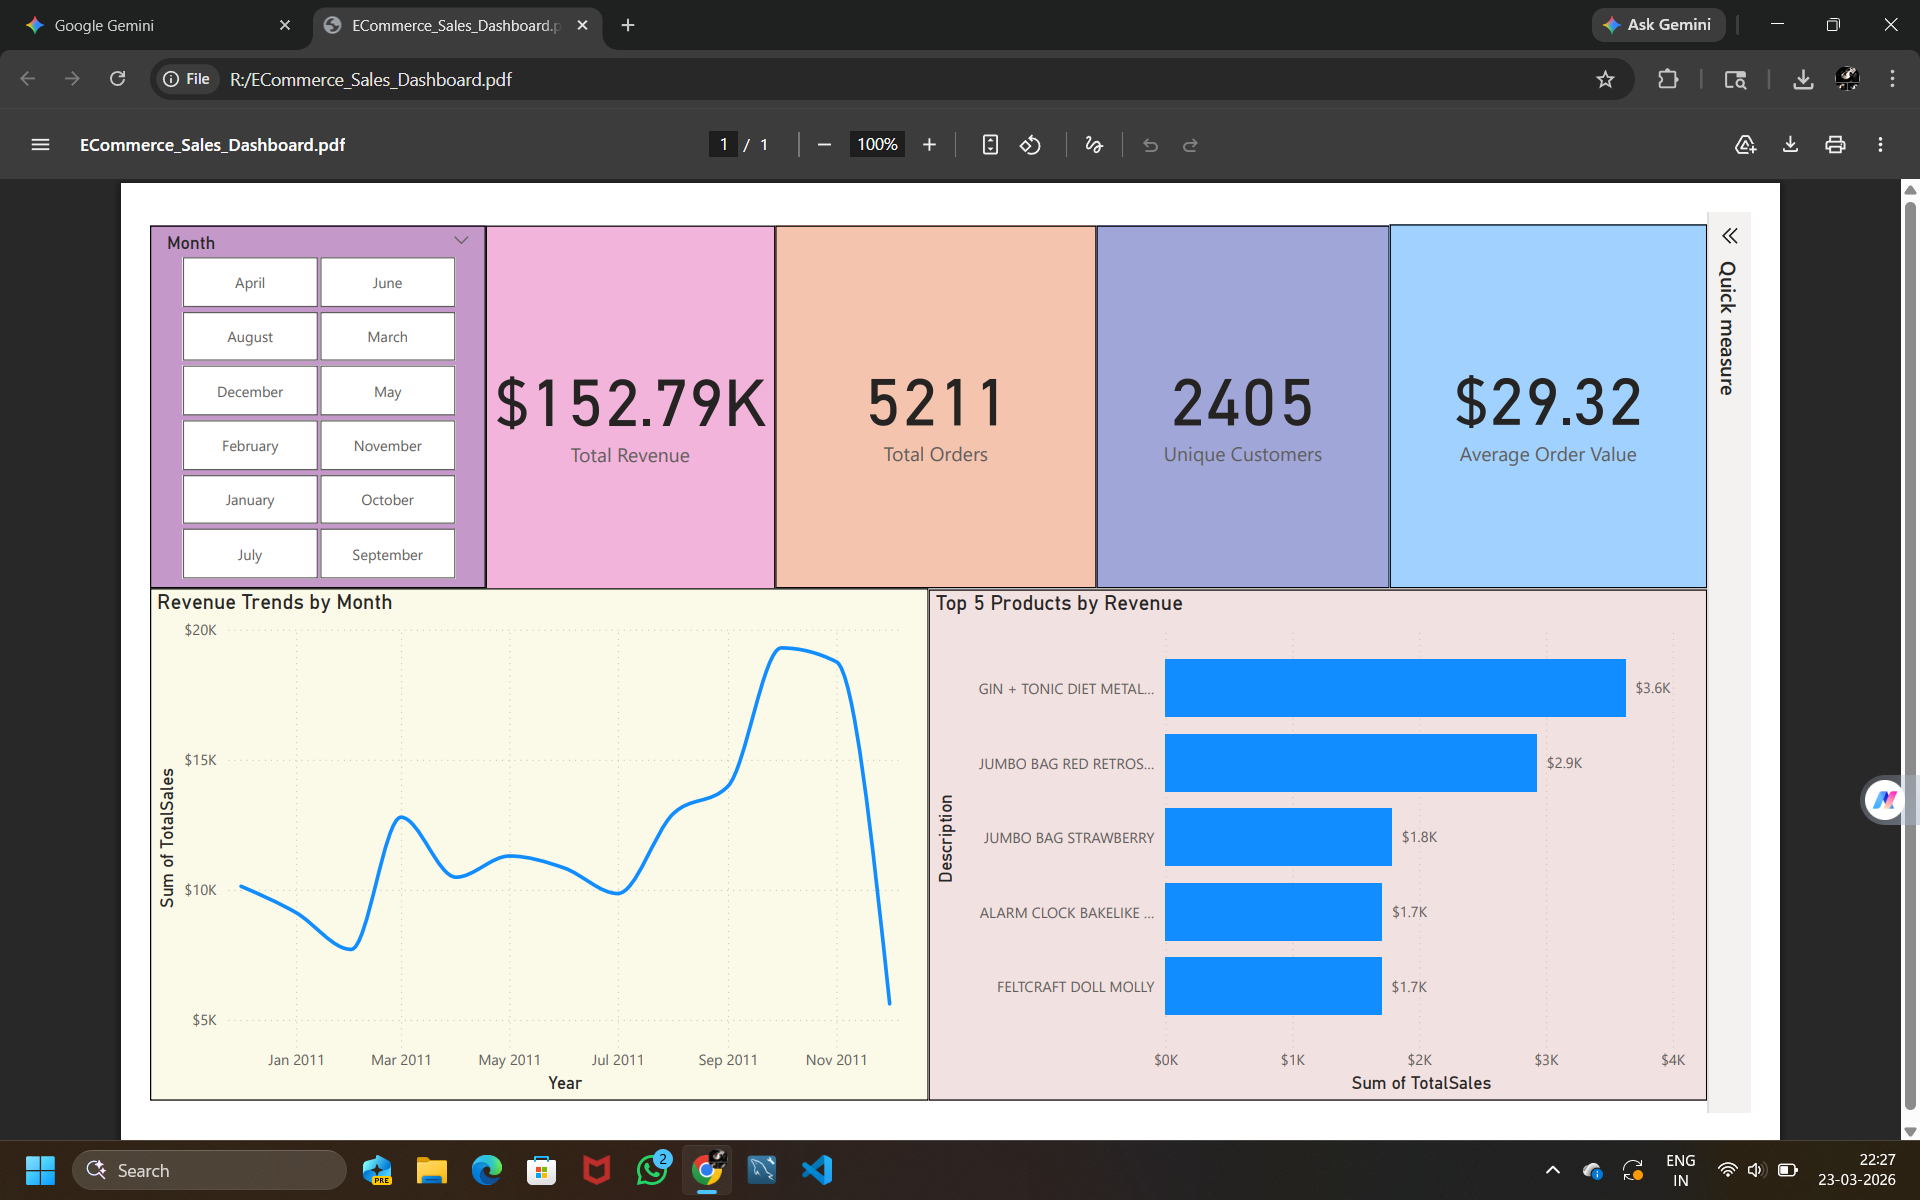

The page's visual inventory and layout, read from the dashboard file:
{"tool":"powerbi","page":{"name":"Page 1","canvas":[1280,720],"ordinal":0},"visuals":[{"type":"card","fields":{"Values":["Sum(ecommerce_ready_for_dashboard.TotalSales)"]},"box":[276.2,1.2,237.7,299],"z":0},{"type":"card","fields":{"Values":["Count(ecommerce_ready_for_dashboard.InvoiceNo)"]},"box":[513.9,1.2,264.2,297.8],"z":1},{"type":"card","fields":{"Values":["Count(ecommerce_ready_for_dashboard.CustomerID)"]},"box":[778.1,1.2,241.4,297.8],"z":2},{"type":"card","fields":{"Values":["ecommerce_ready_for_dashboard.Average Order Value"]},"box":[1019.4,0,260.6,299],"z":3},{"type":"lineChart","title":"Revenue Trends by Month","fields":{"Y":["Sum(ecommerce_ready_for_dashboard.TotalSales)"],"Category":["ecommerce_ready_for_dashboard.InvoiceDate.Variation.Date Hierarchy.Year","ecommerce_ready_for_dashboard.InvoiceDate.Variation.Date Hierarchy.Month"]},"box":[0,299.3,640,420.5],"z":4},{"type":"clusteredBarChart","title":"Top 5 Products by Revenue","fields":{"Category":["ecommerce_ready_for_dashboard.Description"],"Y":["Sum(ecommerce_ready_for_dashboard.TotalSales)"]},"box":[640,300.2,640,420.3],"z":5},{"type":"slicer","fields":{"Values":["ecommerce_ready_for_dashboard.Month"]},"box":[0,1,276,298],"z":6}]}

Visuals, with their boxes on the page's 1280x720 design canvas (x1, y1, x2, y2). These are canvas units, not pixel positions in the 1920x1200 screenshot, which may show the page scaled, cropped or inside an application window:
card - Sum(ecommerce_ready_for_dashboard.TotalSales): crop(276, 1, 514, 300)
card - Count(ecommerce_ready_for_dashboard.InvoiceNo): crop(514, 1, 778, 299)
card - Count(ecommerce_ready_for_dashboard.CustomerID): crop(778, 1, 1020, 299)
card - ecommerce_ready_for_dashboard.Average Order Value: crop(1019, 0, 1280, 299)
"Revenue Trends by Month" lineChart: crop(0, 299, 640, 720)
"Top 5 Products by Revenue" clusteredBarChart: crop(640, 300, 1280, 720)
slicer - ecommerce_ready_for_dashboard.Month: crop(0, 1, 276, 299)
